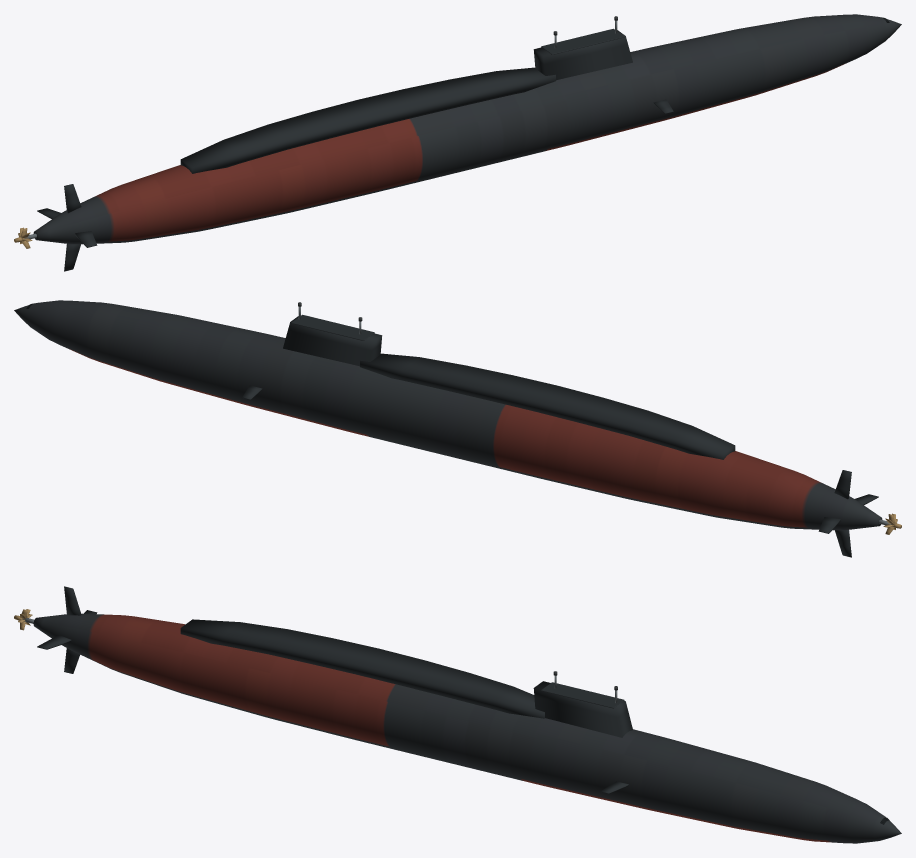
File: RU_SSBN_DeltaII.glb
3 views of the same model, one above another, from view 1: azimuth 30°, elevation 25°; view 2: azimuth 150°, elevation 25°; view 3: azimuth 330°, elevation 25° (orthographic).
Parts seen in each view (by area): view 1: RU_SSBN_DeltaII_LOD0; view 2: RU_SSBN_DeltaII_LOD0; view 3: RU_SSBN_DeltaII_LOD0.
Boxes of the visible parts, <box> form: RU_SSBN_DeltaII_LOD0: <box>14,14,901,271</box>; RU_SSBN_DeltaII_LOD0: <box>14,300,901,557</box>; RU_SSBN_DeltaII_LOD0: <box>14,586,901,843</box>.
Bounding box in the file's own units: 159 × 20.46 × 20.06.
6 materials, 1 textured.
